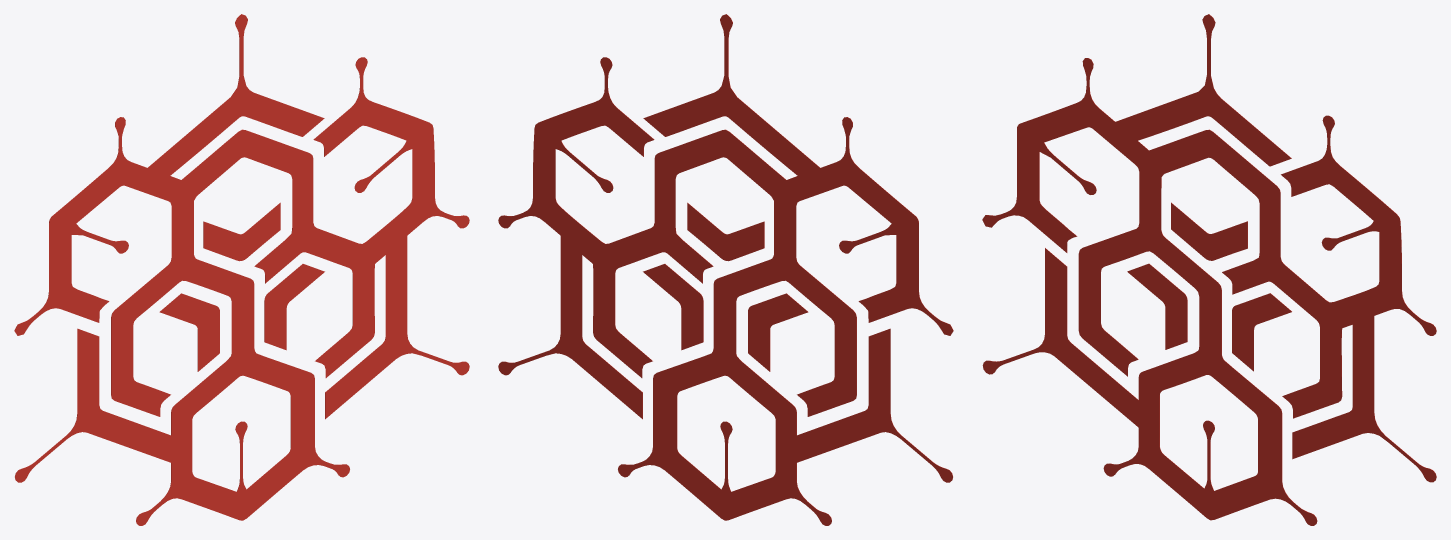
The model's file is GRAF_3_11.glb.
The picture shows the model from 3 angles, left to right: view 1: azimuth 30°, elevation 25°; view 2: azimuth 150°, elevation 25°; view 3: azimuth 330°, elevation 25°; orthographic projection.
Visible parts, largest first — view 1: Curve; view 2: Curve; view 3: Curve.
Part boxes in pixels (<box>): Curve: <box>14,14,469,525</box>; Curve: <box>498,14,953,525</box>; Curve: <box>982,14,1436,525</box>.
Size of the model in its own units: 3.45 by 3.67 by 0.00241.
